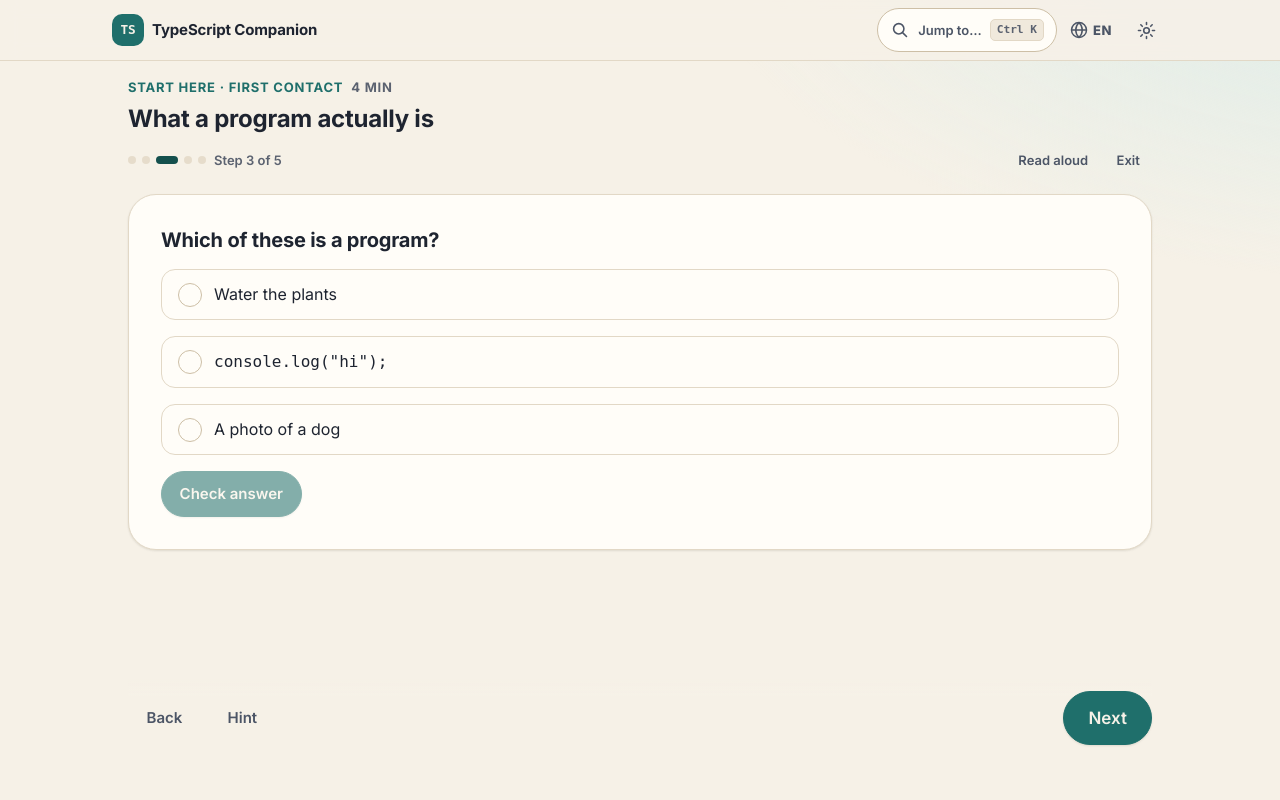
Test: keyboard shortcuts › Ctrl+Enter checks the current exercise, in every mode
Click the button with class "option" showing "console.log(\"hi\");" at [301, 361], box [161, 336, 1119, 388]
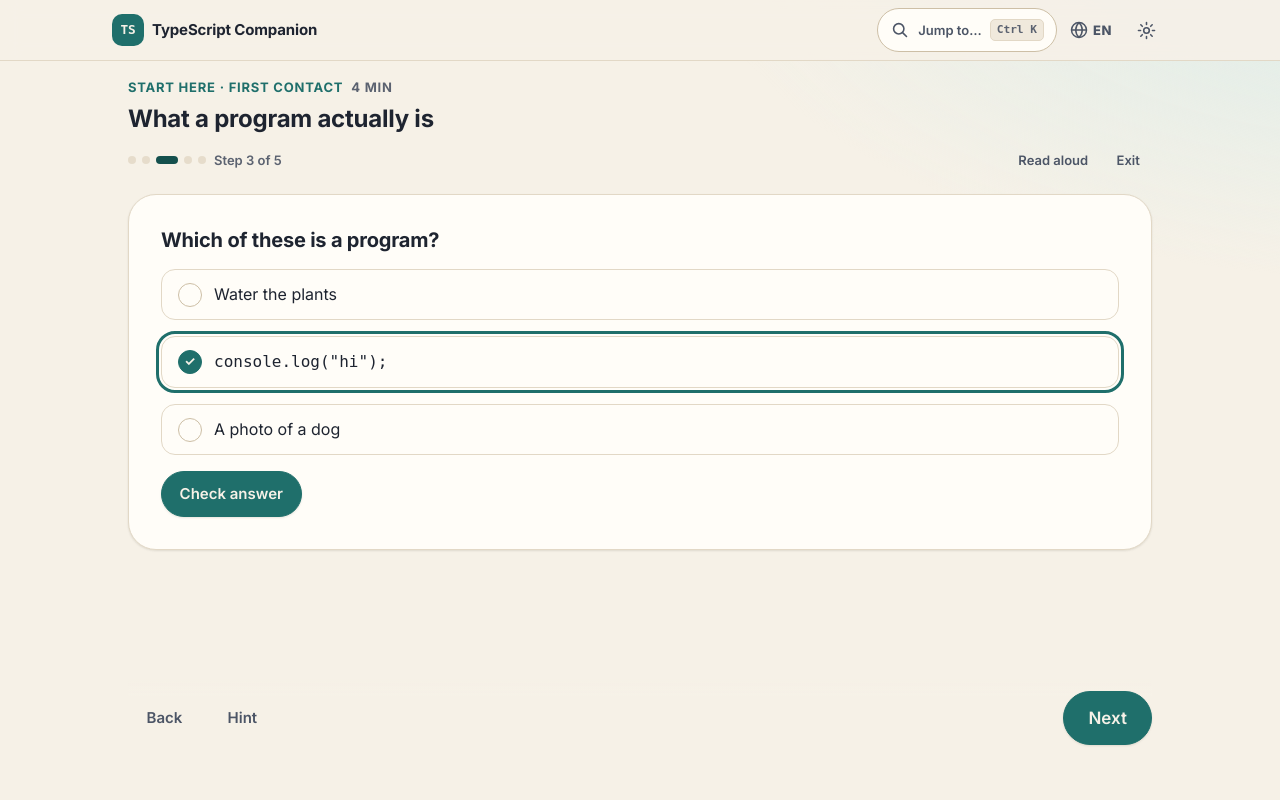
Type keys "{Control>}{Enter}{/Control}"
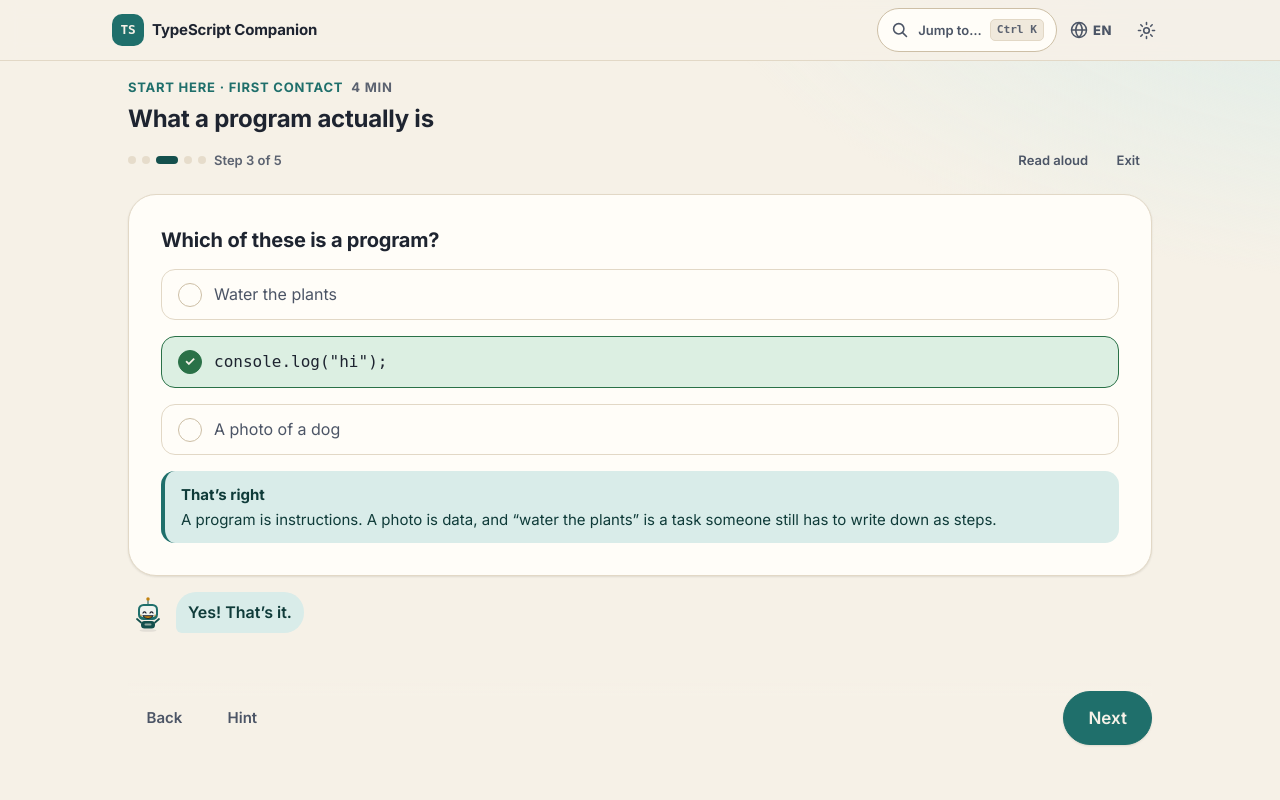
Result: the text "That’s right" is shown at [181, 485, 265, 504]
